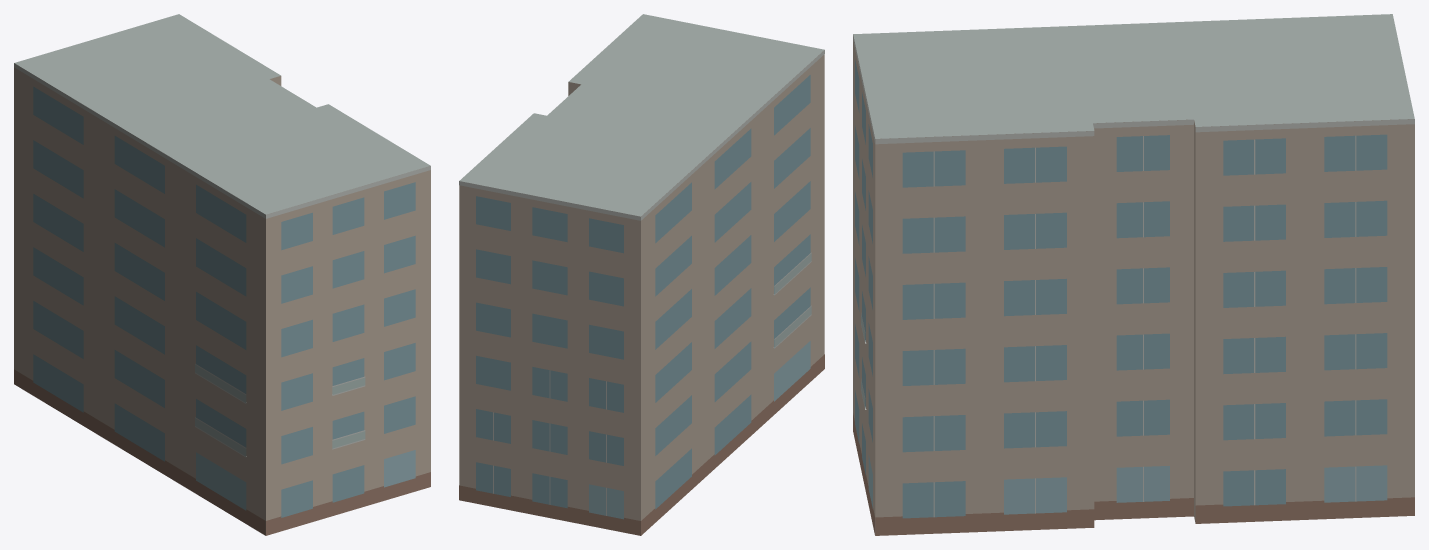
File: survey-upis-32621215.glb
3 renders of one model, left to right at view 1: azimuth 30°, elevation 25°; view 2: azimuth 150°, elevation 25°; view 3: azimuth 270°, elevation 25°, orthographic. The views are drawn at different scales.
Parts seen in each view (by area): view 1: survey-upis-32621215.tmp; view 2: survey-upis-32621215.tmp; view 3: survey-upis-32621215.tmp.
Part boxes in pixels (bbox=[...]): survey-upis-32621215.tmp: bbox=[14, 14, 430, 535]; survey-upis-32621215.tmp: bbox=[459, 14, 824, 535]; survey-upis-32621215.tmp: bbox=[853, 14, 1414, 535].
Size of the model in its own units: 12.37 by 18.3 by 23.48.
